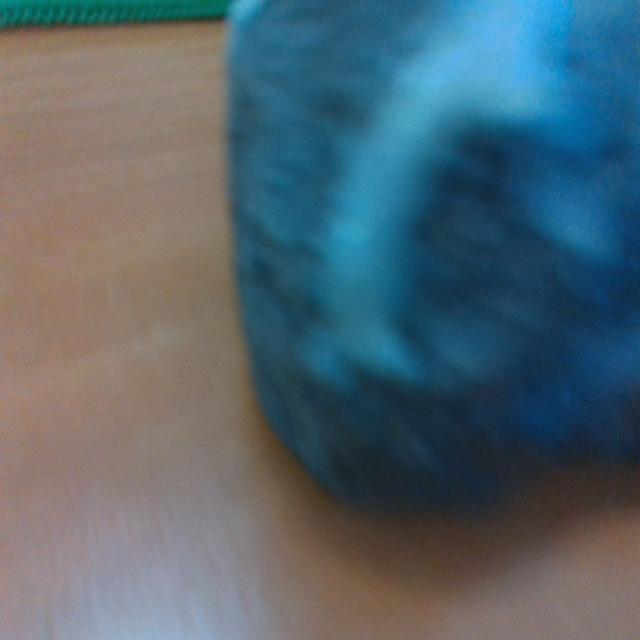stone: (225, 0, 640, 519)
